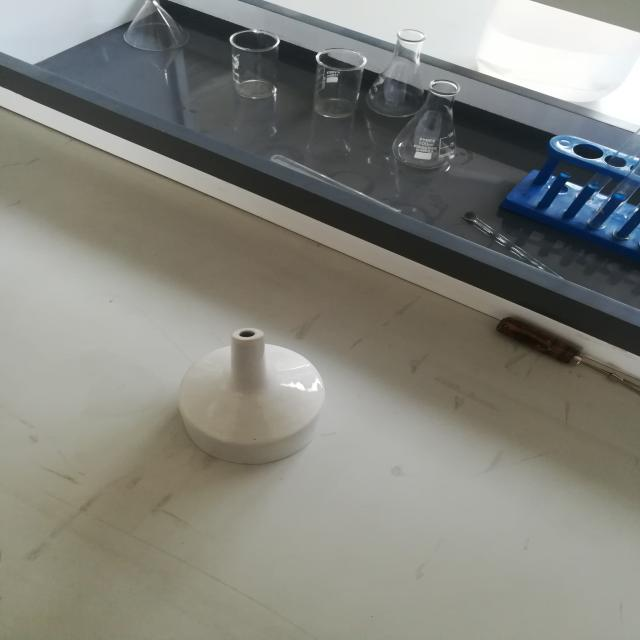Buchner_Funnel: (140, 272, 363, 472)
